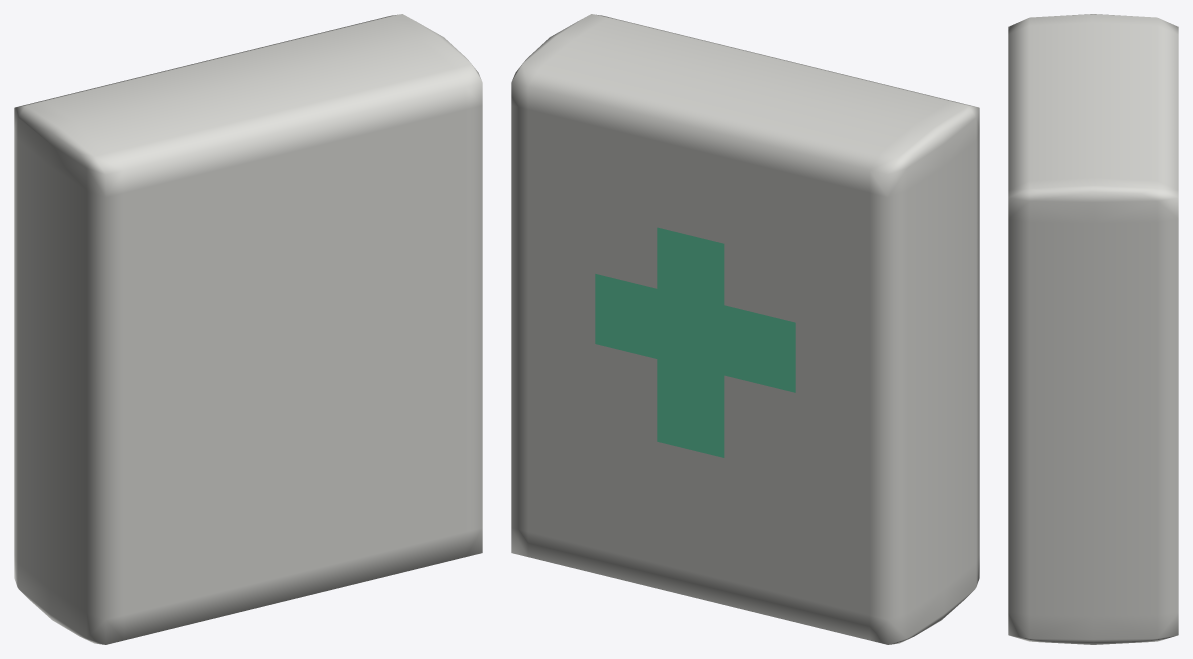
Rendered from first_aid_kit.fbx.
The picture shows the model from 3 angles, left to right: view 1: azimuth 30°, elevation 25°; view 2: azimuth 150°, elevation 25°; view 3: azimuth 270°, elevation 25°; orthographic projection. The views are drawn at different scales.
Parts seen in each view (by area): view 1: first_aid_kit; view 2: first_aid_kit; view 3: first_aid_kit.
Boxes of the visible parts, left/top/right/bottom form: first_aid_kit: left=14, top=14, right=482, bottom=644; first_aid_kit: left=511, top=14, right=979, bottom=644; first_aid_kit: left=1008, top=14, right=1178, bottom=644.
Size of the model in its own units: 1.86 by 2.21 by 0.7441.
